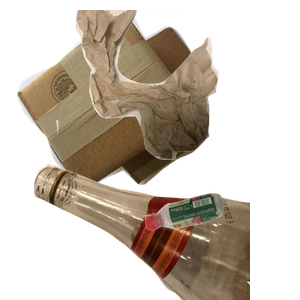cardboard: (14, 10, 222, 190)
glass: (31, 120, 271, 300)
plastic: (142, 191, 300, 300)
trash: (73, 10, 300, 163)
